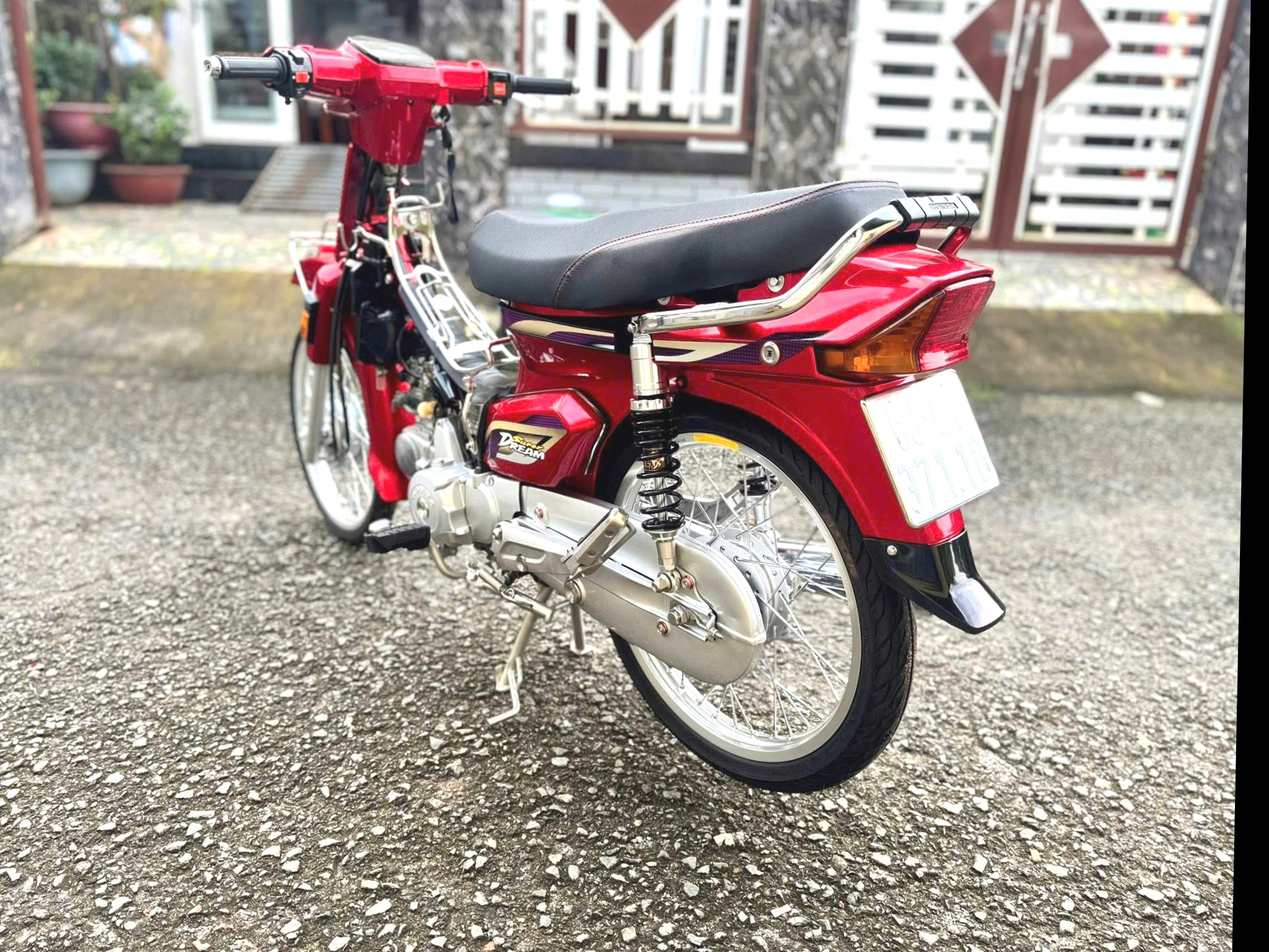Bien-so: (862, 371, 1008, 538)
